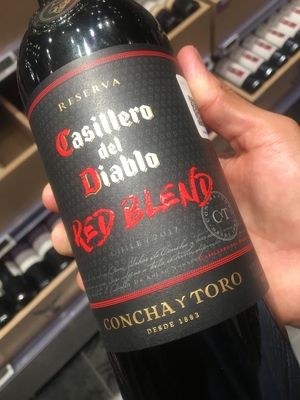casillero del diablo red blend: (26, 16, 282, 386)
